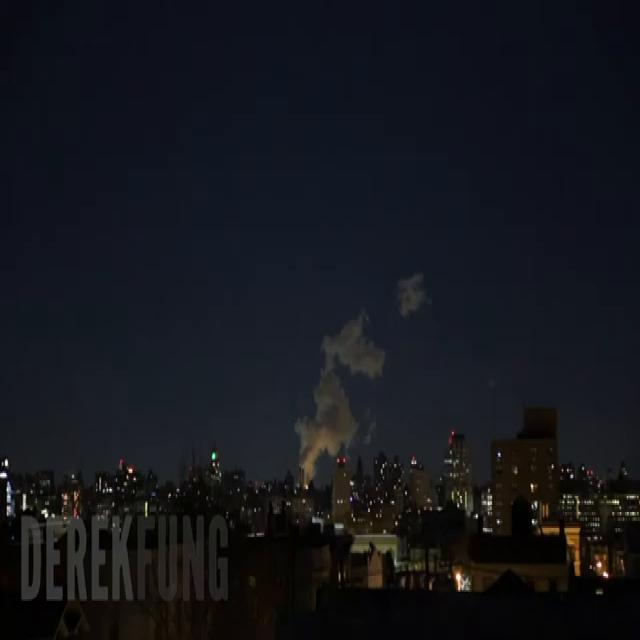smoke: (295, 311, 384, 476)
